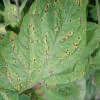Tomato leaf bacterial spot: (1, 0, 93, 97)
